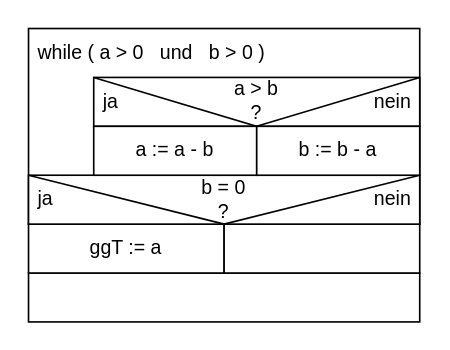
Some shapes in this 450 by 350 pixel diagram are drawn without their labels. Each missing label, with the centre of its shape:
"Ausgabe ggT" belongs at [223,296].
"ggT := b" belongs at [321,247].
